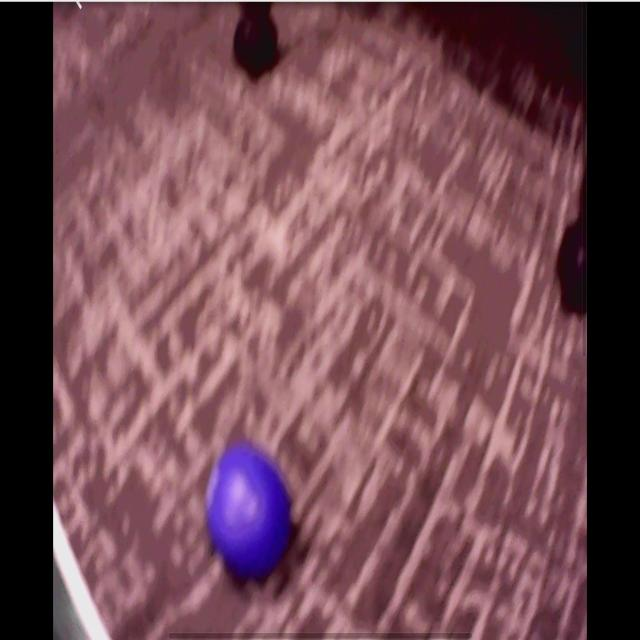ball: (205, 451, 294, 575)
